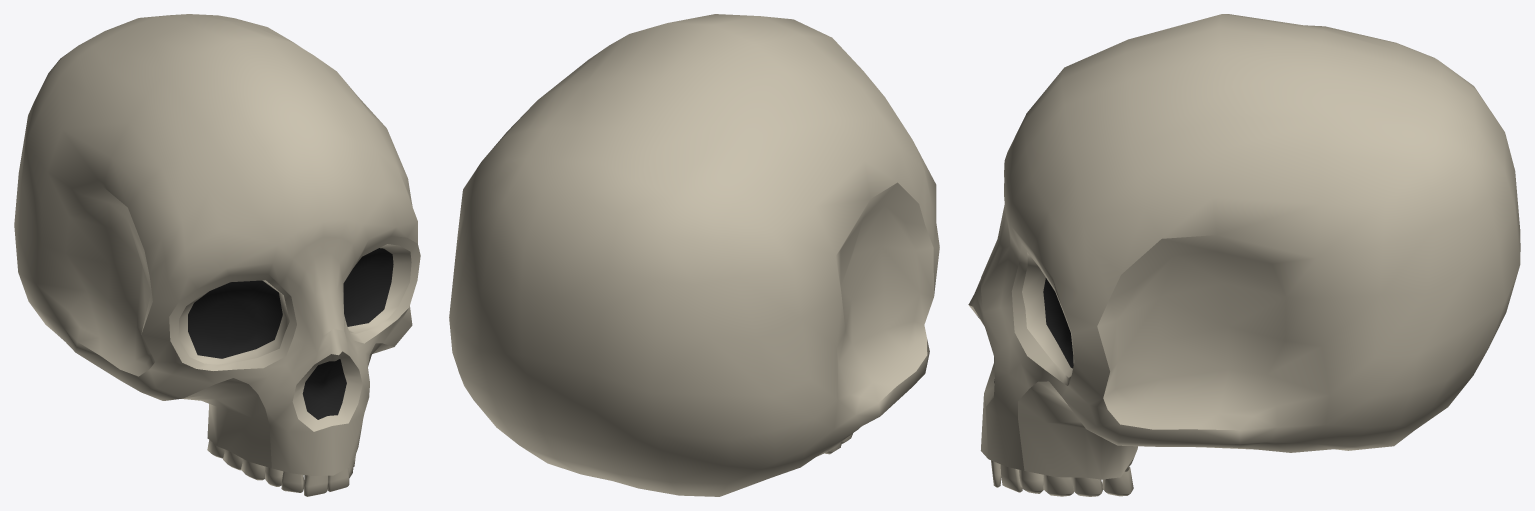
File: HumanSkull_01.fbx
The picture shows the model from 3 angles, left to right: view 1: azimuth 30°, elevation 25°; view 2: azimuth 150°, elevation 25°; view 3: azimuth 270°, elevation 25°; orthographic projection. The views are drawn at different scales.
Visible parts, largest first — view 1: HumanSkull_01; view 2: HumanSkull_01; view 3: HumanSkull_01.
Part boxes in pixels (bbox=[...]): HumanSkull_01: bbox=[14, 14, 420, 496]; HumanSkull_01: bbox=[449, 14, 939, 496]; HumanSkull_01: bbox=[968, 14, 1520, 496].
Bounding box in the file's own units: 0.206 × 0.249 × 0.2774.
